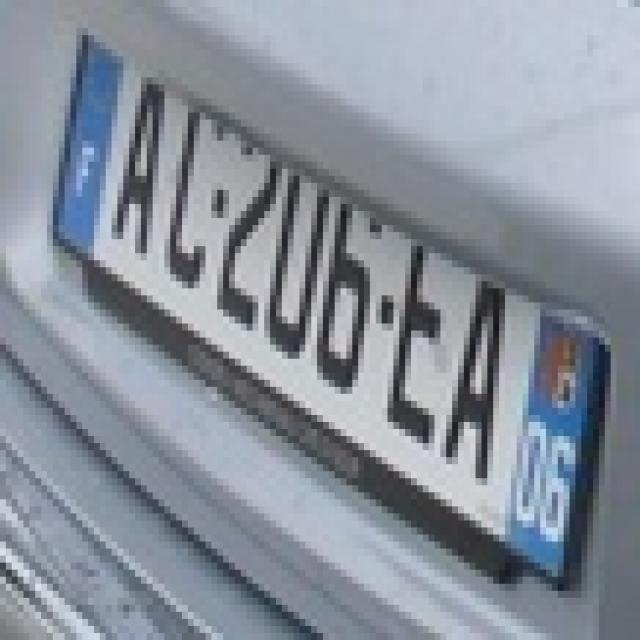licenseplate: (33, 11, 618, 604)
